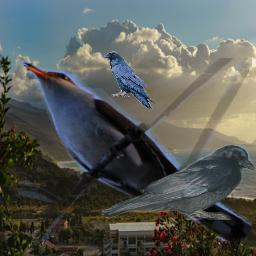Crow: (100, 144, 256, 220), (102, 51, 155, 109)
Cuckoo: (18, 58, 252, 241)
